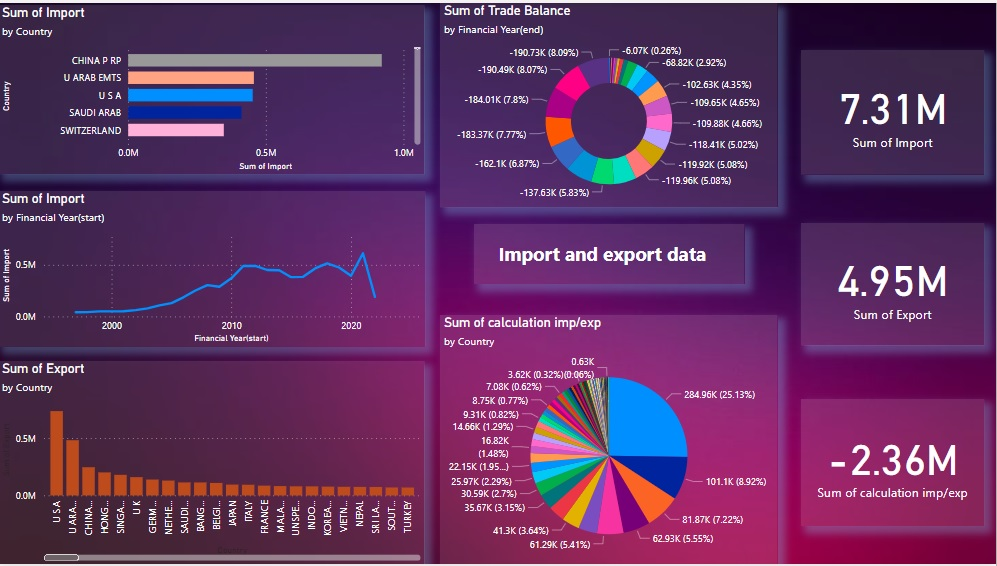

What the dashboard file says about the page in this screenshot:
{"tool":"powerbi","page":{"name":"Page 1","canvas":[1280,720],"ordinal":0},"visuals":[{"type":"card","fields":{"Values":["Sum(exports and imports of india(1997- July 2022) - exports and imports csv.Export)"]},"box":[1030,281.7,235,156.7],"z":0},{"type":"card","fields":{"Values":["Sum(exports and imports of india(1997- July 2022) - exports and imports csv.Import)"]},"box":[1030,60,235,160],"z":1000},{"type":"clusteredColumnChart","fields":{"Category":["exports and imports of india(1997- July 2022) - exports and imports csv.Country"],"Y":["Sum(exports and imports of india(1997- July 2022) - exports and imports csv.Export)"]},"box":[0,458.6,547.1,261.4],"z":2000},{"type":"card","fields":{"Values":["Sum(exports and imports of india(1997- July 2022) - exports and imports csv.calculation imp/exp)"]},"box":[1030,508.3,235,163.3],"z":3000},{"type":"barChart","fields":{"Category":["exports and imports of india(1997- July 2022) - exports and imports csv.Country"],"Y":["Sum(exports and imports of india(1997- July 2022) - exports and imports csv.Import)"]},"box":[0,2.9,547.1,217.1],"z":3001},{"type":"lineChart","fields":{"Category":["exports and imports of india(1997- July 2022) - exports and imports csv.Financial Year(start)"],"Y":["Sum(exports and imports of india(1997- July 2022) - exports and imports csv.Import)"]},"box":[0,241.2,547.5,200],"z":3002},{"type":"donutChart","fields":{"Category":["exports and imports of india(1997- July 2022) - exports and imports csv.Financial Year(end)"],"Y":["Sum(exports and imports of india(1997- July 2022) - exports and imports csv.Trade Balance)"]},"box":[566.7,0,433.3,261.7],"z":3003},{"type":"pieChart","fields":{"Category":["exports and imports of india(1997- July 2022) - exports and imports csv.Country"],"Y":["Sum(exports and imports of india(1997- July 2022) - exports and imports csv.calculation imp/exp)"]},"box":[566.7,400,433.3,320],"z":3004},{"type":"textbox","box":[610,283.3,346.7,76.7],"z":3005}]}

Visuals, with their boxes in screenshot pixels (x1, y1, x2, y2), scaled from the page's 1280x720 canvas onto the 997x566 screenshot:
card - Sum(exports and imports of india(1997- July 2022) - exports and imports csv.Export): 802:221:985:345
card - Sum(exports and imports of india(1997- July 2022) - exports and imports csv.Import): 802:47:985:173
clusteredColumnChart - exports and imports of india(1997- July 2022) - exports and imports csv.Country x Sum(exports and imports of india(1997- July 2022) - exports and imports csv.Export): 0:361:426:565
card - Sum(exports and imports of india(1997- July 2022) - exports and imports csv.calculation imp/exp): 802:400:985:528
barChart - exports and imports of india(1997- July 2022) - exports and imports csv.Country x Sum(exports and imports of india(1997- July 2022) - exports and imports csv.Import): 0:2:426:173
lineChart - exports and imports of india(1997- July 2022) - exports and imports csv.Financial Year(start) x Sum(exports and imports of india(1997- July 2022) - exports and imports csv.Import): 0:190:426:347
donutChart - exports and imports of india(1997- July 2022) - exports and imports csv.Financial Year(end) x Sum(exports and imports of india(1997- July 2022) - exports and imports csv.Trade Balance): 441:0:779:206
pieChart - exports and imports of india(1997- July 2022) - exports and imports csv.Country x Sum(exports and imports of india(1997- July 2022) - exports and imports csv.calculation imp/exp): 441:314:779:565
textbox: 475:223:745:283
